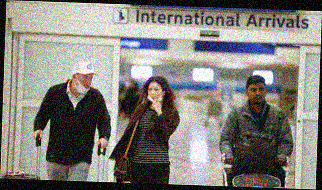mask_weared_incorrect: (75, 73, 94, 91), (147, 85, 164, 102)
without_mask: (247, 84, 267, 103)
